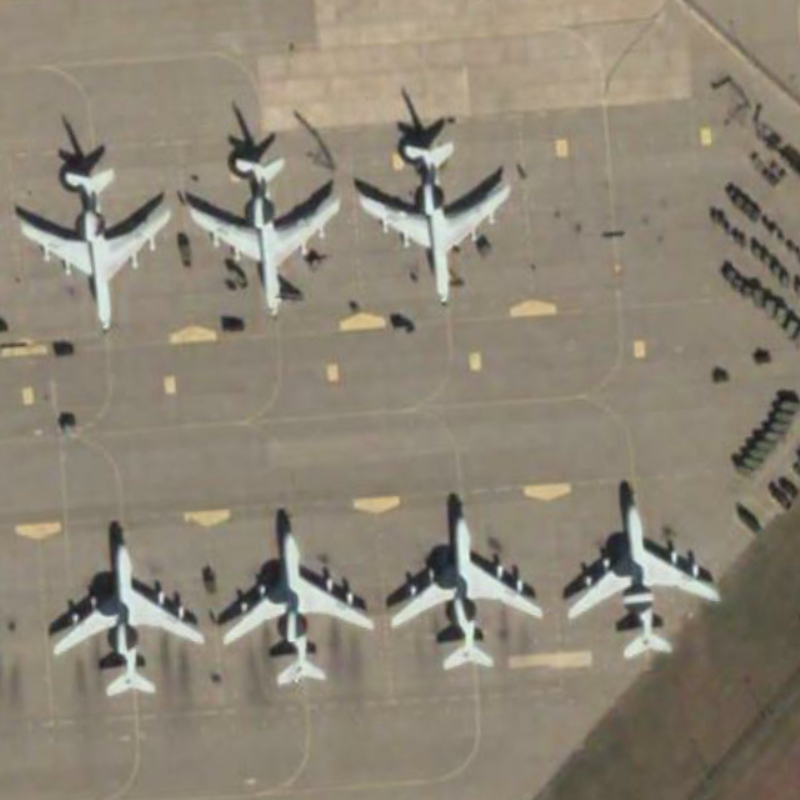A7: (348, 128, 524, 318), (554, 484, 731, 665), (15, 150, 180, 339), (43, 520, 209, 705), (178, 144, 343, 325), (387, 500, 548, 678), (219, 521, 378, 692)
